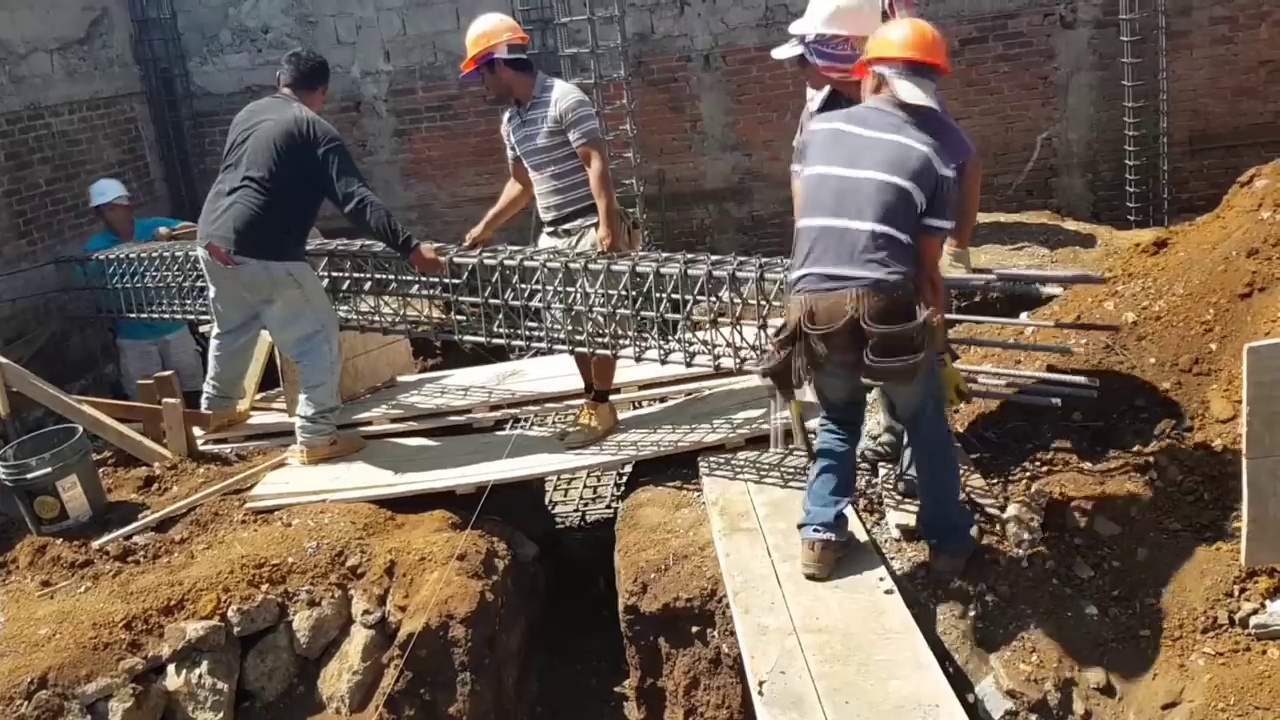helmet: (859, 7, 959, 73), (781, 0, 881, 60), (455, 12, 528, 77), (80, 177, 131, 206)
helmet-off: (275, 46, 330, 110)
helmet-on: (859, 9, 961, 99), (781, 2, 883, 89), (456, 14, 546, 112), (78, 180, 130, 242)
person: (752, 26, 993, 623), (180, 34, 461, 486), (438, 30, 627, 434), (70, 181, 185, 390)
